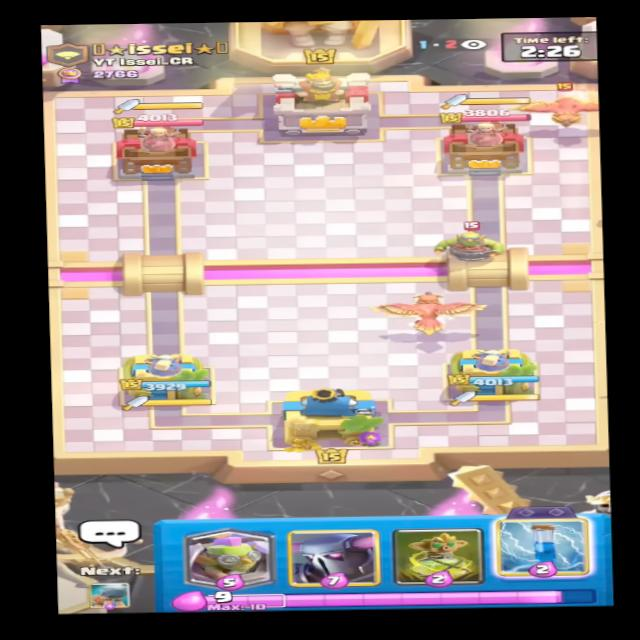goblin-demolisher: (428, 217, 509, 262)
phoenix: (507, 79, 612, 126)
